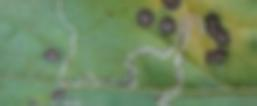Tomato Septoria leaf spot: (1, 0, 257, 106)
